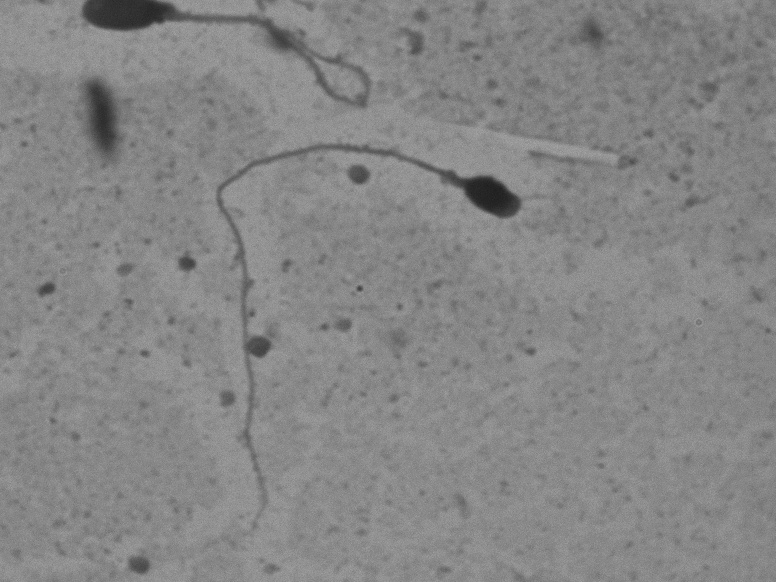Abnormal: (161, 120, 527, 546)
